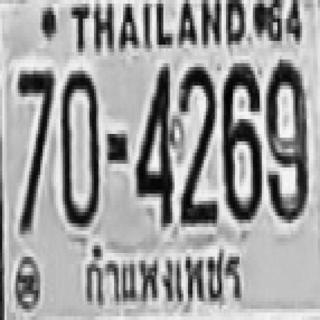N00: (61, 67, 98, 223)
N02: (178, 65, 216, 221)
N04: (134, 63, 172, 223)
N06: (222, 63, 262, 222)
N07: (16, 69, 51, 229)
N09: (264, 59, 306, 220)
P16: (79, 235, 248, 310)
